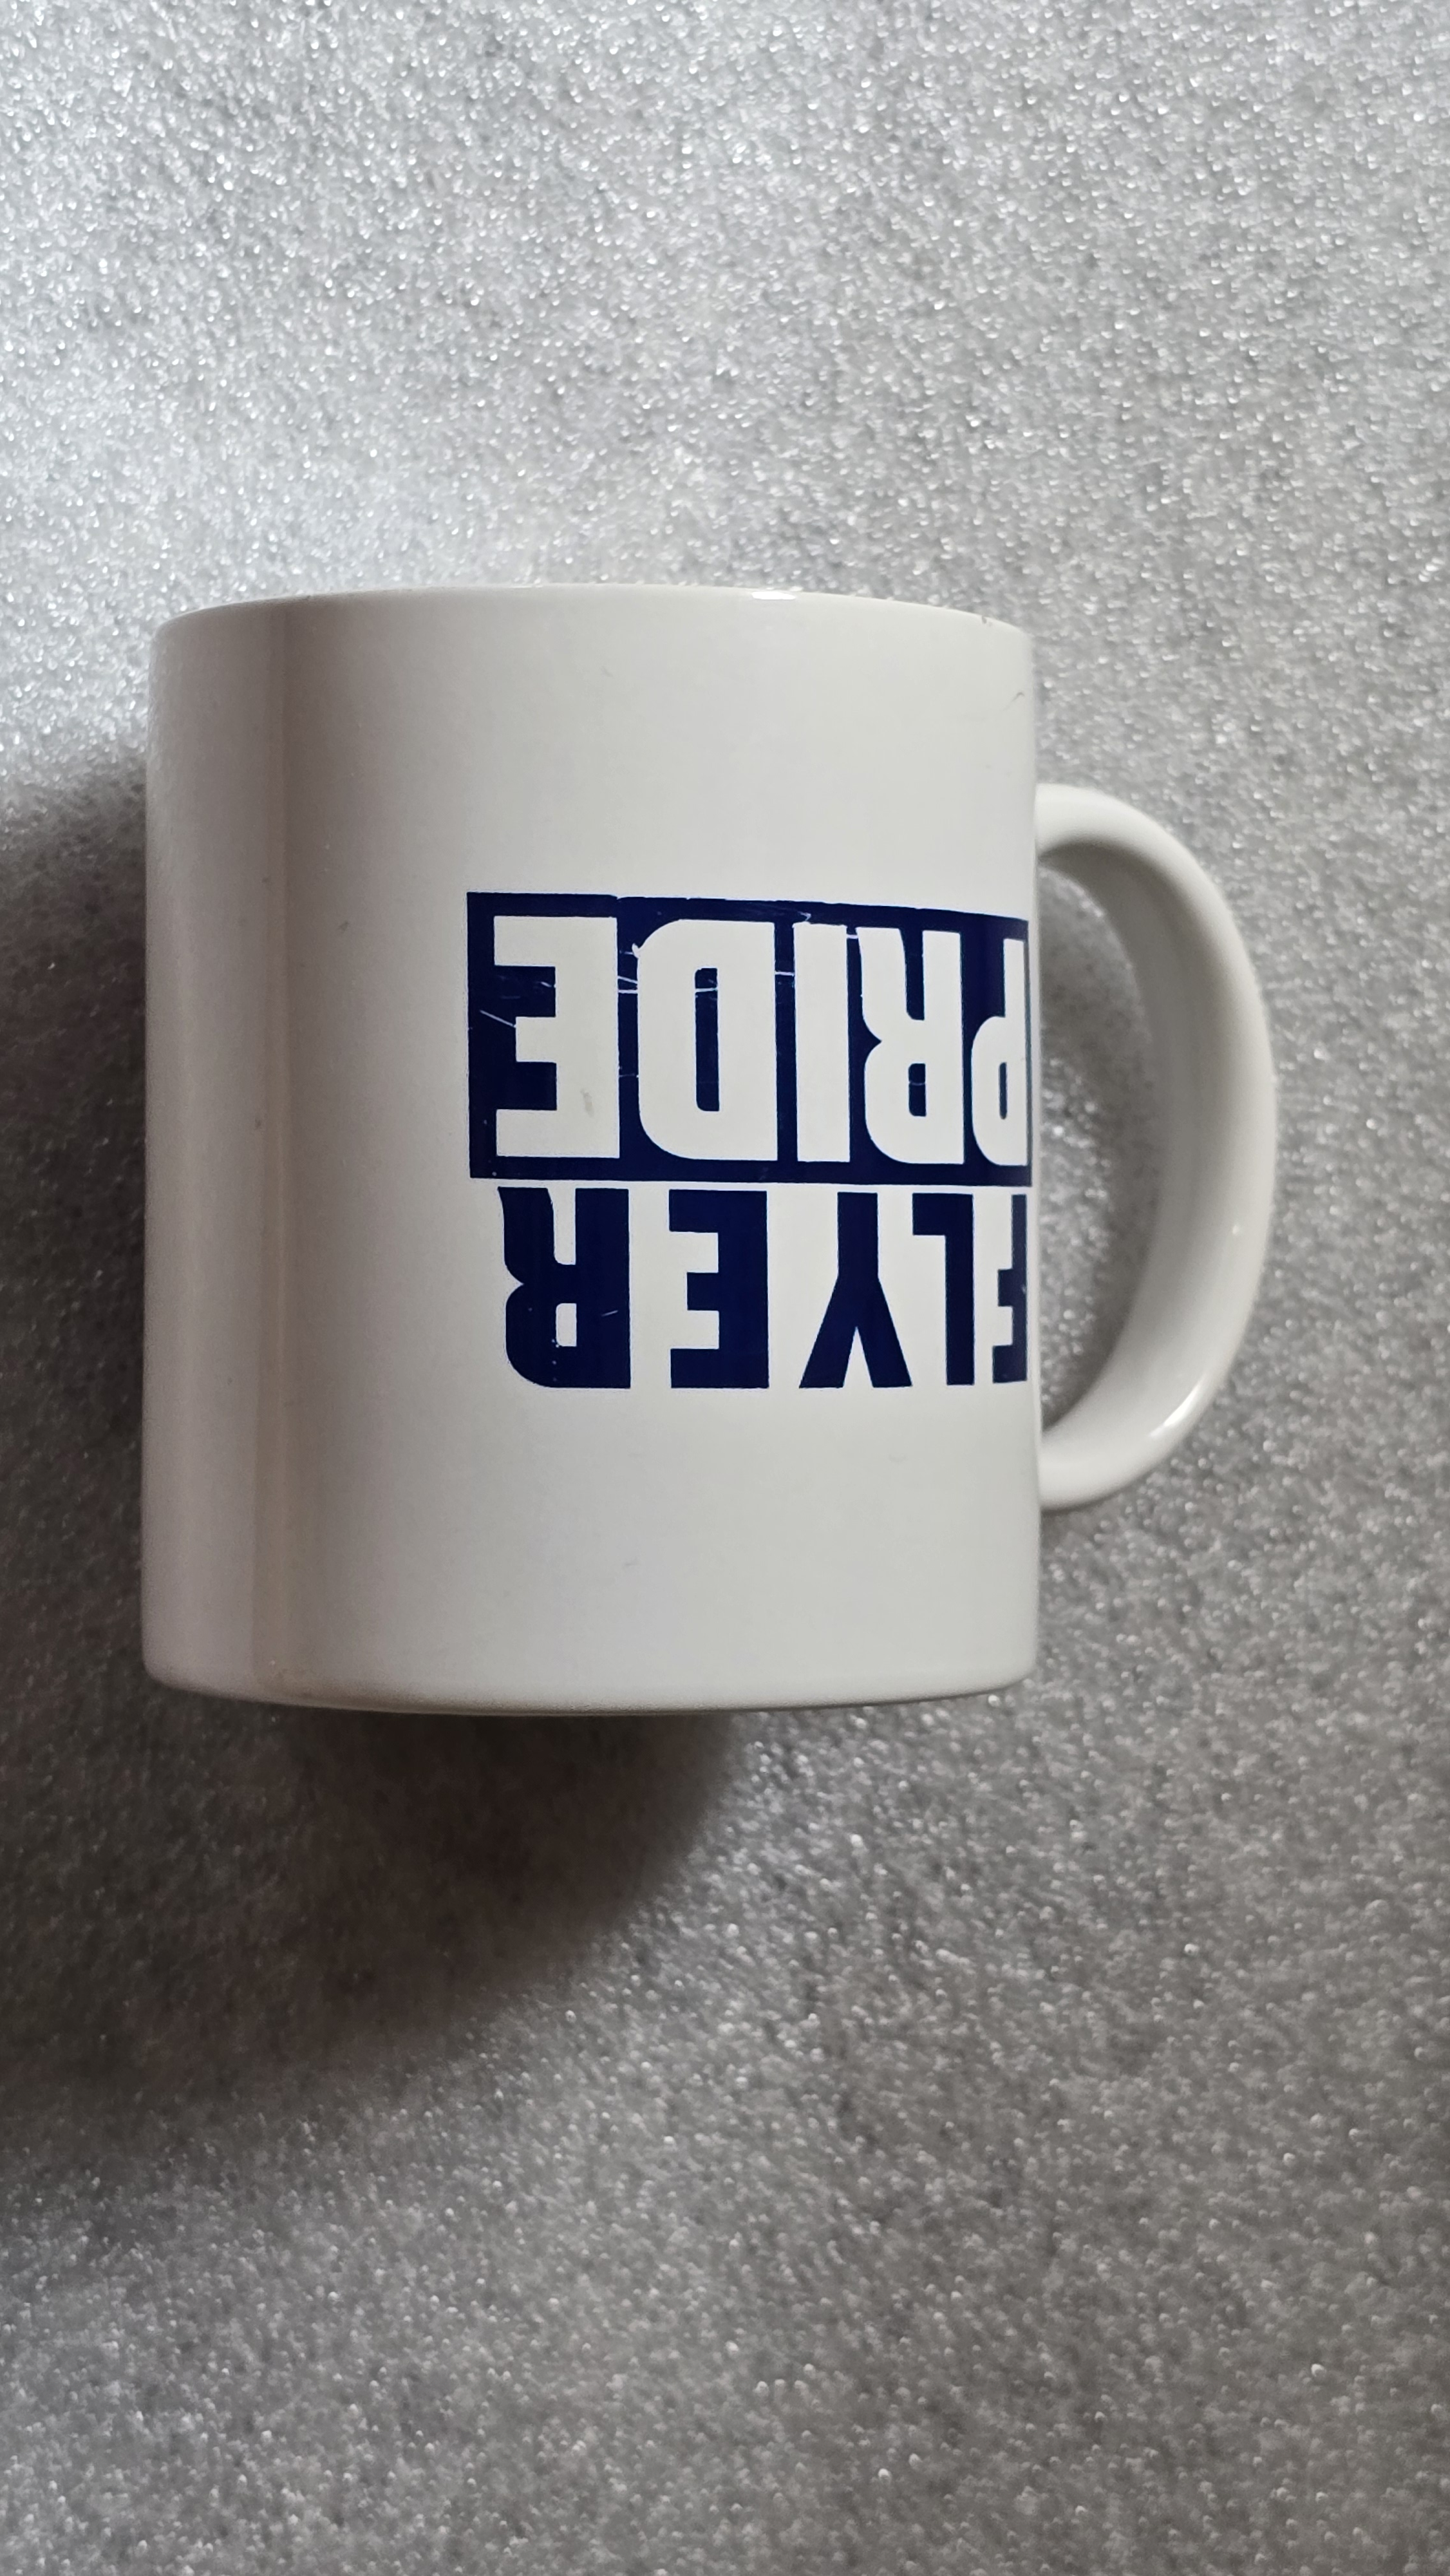mug: (120, 561, 1300, 1757)
